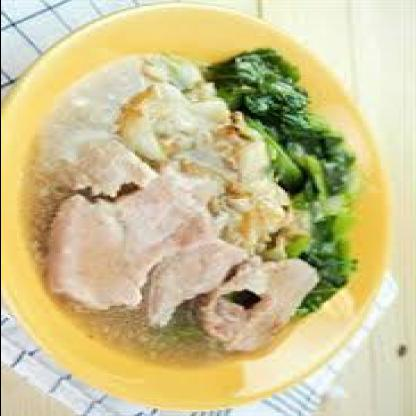Laadna: (7, 33, 377, 381)
